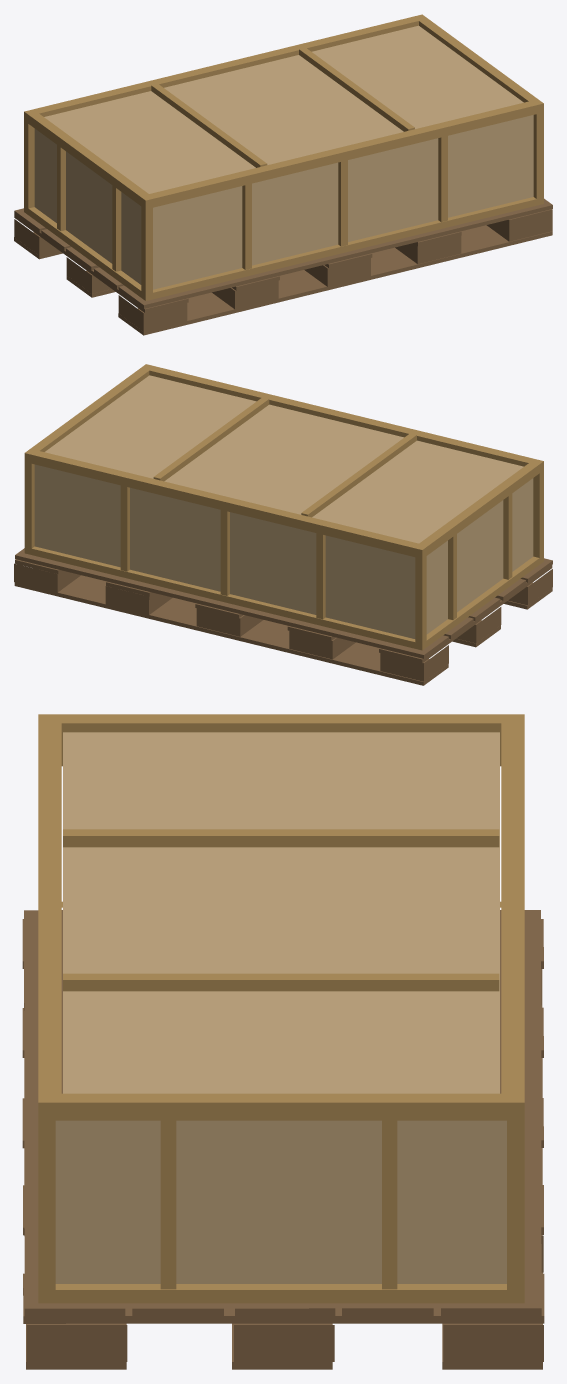
The model's file is BigCrate.glb.
3 views of the same model, one above another, from view 1: azimuth 30°, elevation 25°; view 2: azimuth 150°, elevation 25°; view 3: azimuth 270°, elevation 25° (orthographic). The views are drawn at different scales.
Parts seen in each view (by area): view 1: palletCrate; view 2: palletCrate; view 3: palletCrate.
Part boxes in pixels (x1,y1,x2,y2): palletCrate: (14,14,552,335); palletCrate: (14,364,552,685); palletCrate: (22,714,544,1369).
Size of the model in its own units: 1.51 by 0.4672 by 0.8336.
1 material, 1 textured.
